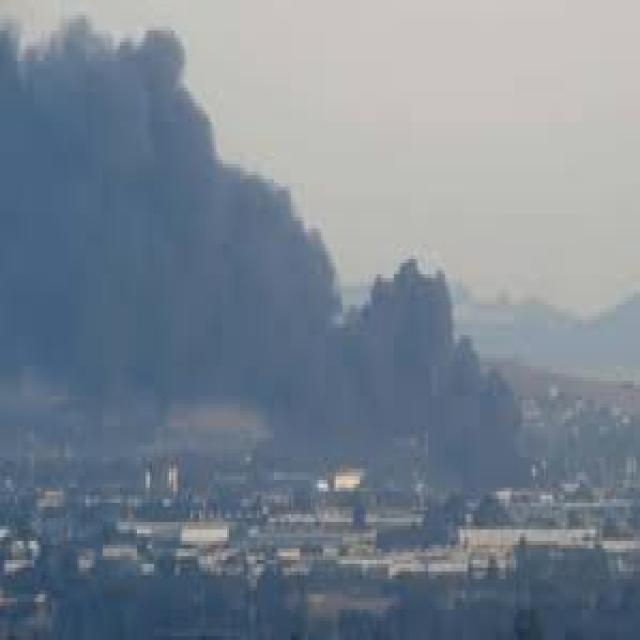Smoke: (0, 6, 534, 500)
